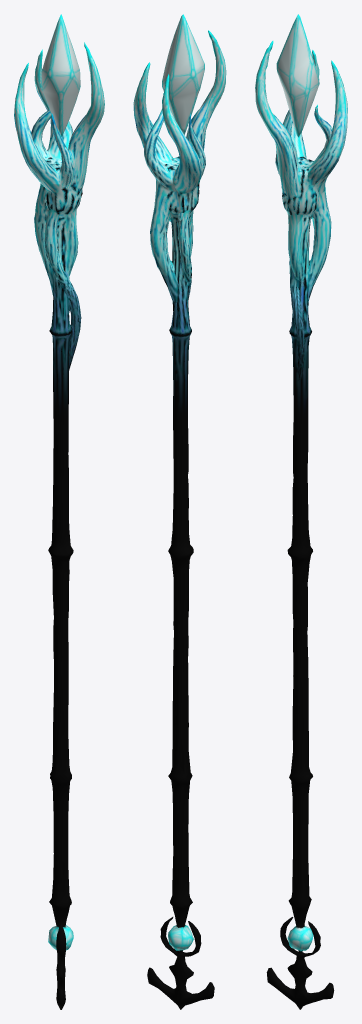
Rendered from wand_golem_emit.obj.
The picture shows the model from 3 angles, left to right: view 1: azimuth 90°, elevation 25°; view 2: azimuth 150°, elevation 25°; view 3: azimuth 330°, elevation 25°; orthographic projection.
Visible parts, largest first — view 1: Wand_FInish_Cylinder.001; view 2: Wand_FInish_Cylinder.001; view 3: Wand_FInish_Cylinder.001.
Boxes of the visible parts, left/top/right/bottom form: Wand_FInish_Cylinder.001: left=14, top=14, right=104, bottom=1009; Wand_FInish_Cylinder.001: left=133, top=14, right=226, bottom=1009; Wand_FInish_Cylinder.001: left=255, top=14, right=347, bottom=1009.
Bounding box in the file's own units: 0.8947 × 11.34 × 0.9374.
